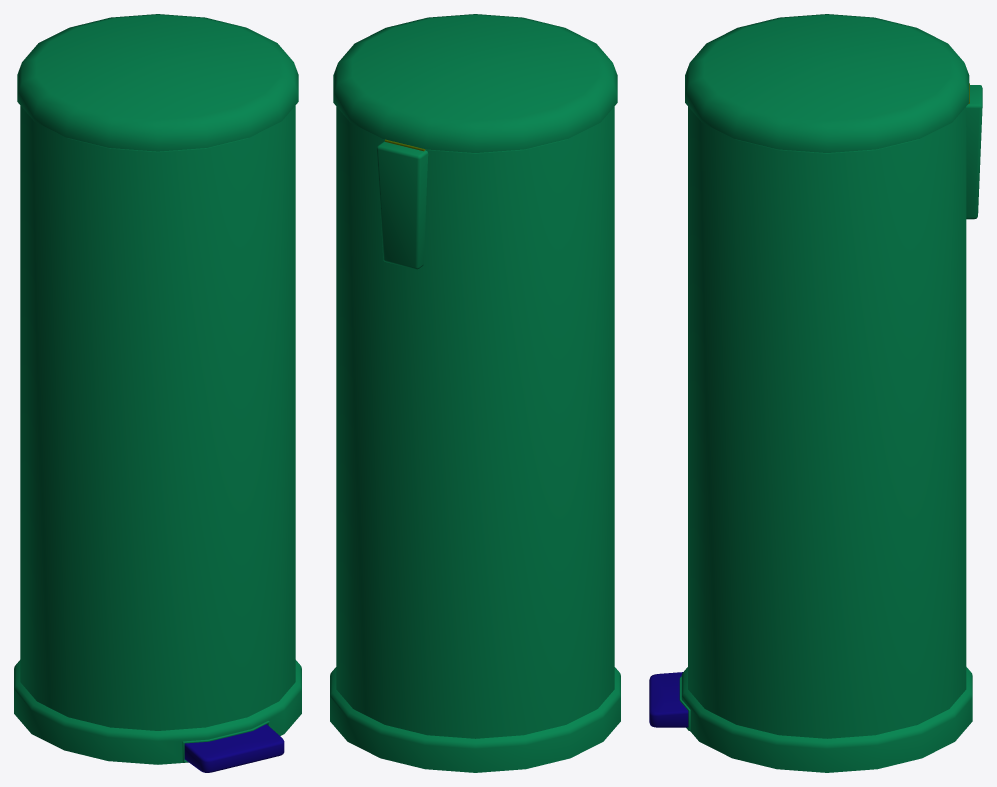
Rendered from SM_Trashcan.fbx.
3 views of the same model, side by side, from view 1: azimuth 30°, elevation 25°; view 2: azimuth 150°, elevation 25°; view 3: azimuth 270°, elevation 25° (orthographic).
Visible parts, largest first — view 1: SM_Trashcan, SM_Trashcan_Lid; view 2: SM_Trashcan, SM_Trashcan_Lid; view 3: SM_Trashcan, SM_Trashcan_Lid.
Boxes of the visible parts, <box> form: SM_Trashcan: <box>14,105,301,772</box>; SM_Trashcan_Lid: <box>17,14,298,151</box>; SM_Trashcan: <box>330,106,620,772</box>; SM_Trashcan_Lid: <box>333,14,617,152</box>; SM_Trashcan: <box>649,85,982,772</box>; SM_Trashcan_Lid: <box>685,14,969,152</box>.
Bounding box in the file's own units: 46.03 × 111 × 51.91.
